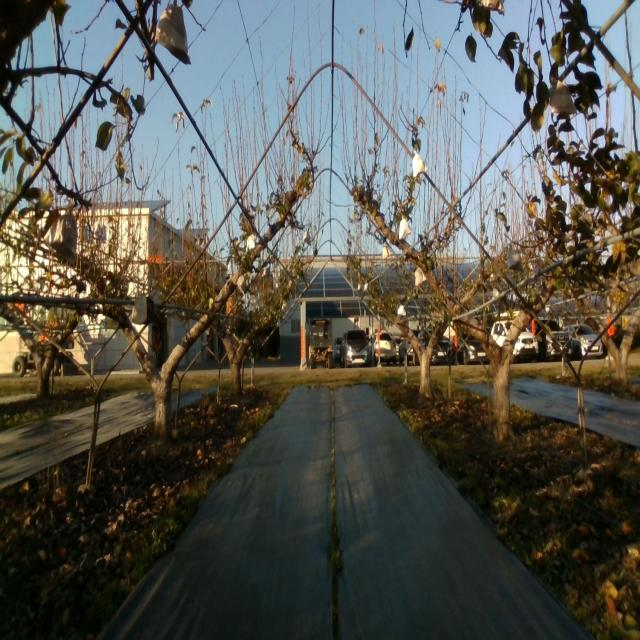pearbags: (155, 0, 191, 66), (44, 211, 77, 261), (549, 79, 577, 116), (412, 150, 427, 178), (507, 245, 522, 269), (399, 216, 411, 240)
